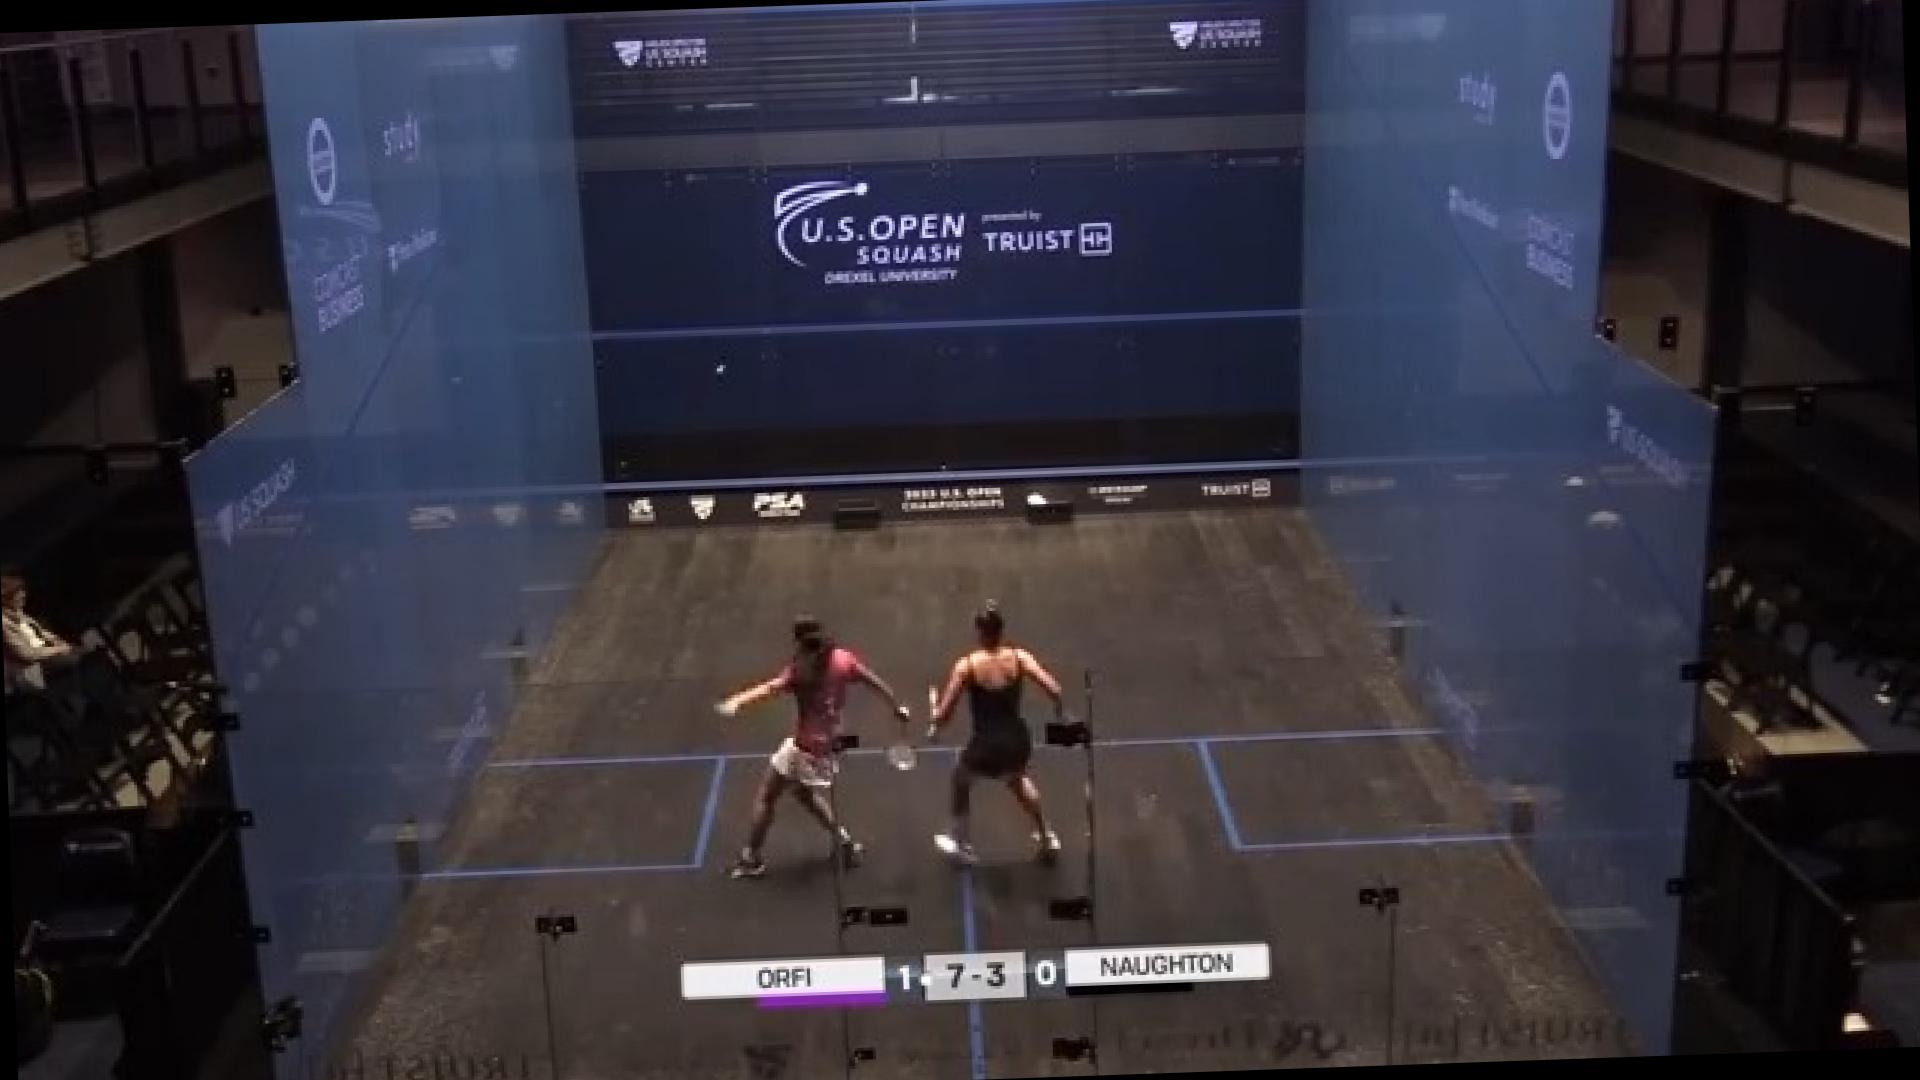Squash-Ball: (705, 347, 737, 394)
